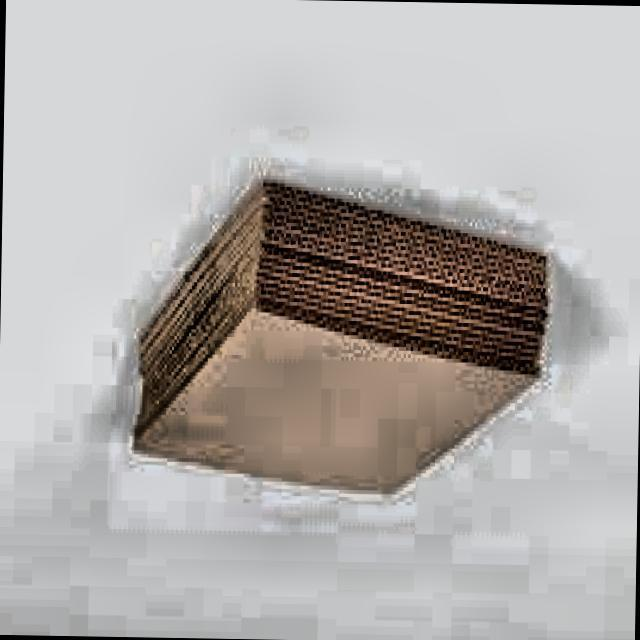cardboard: (131, 180, 554, 504)
